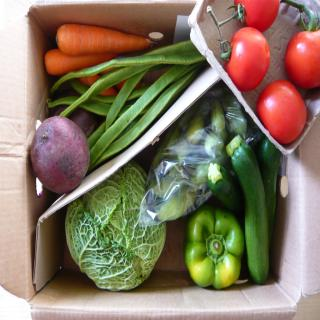tomato: (227, 21, 274, 93), (256, 78, 308, 142), (284, 8, 320, 87), (224, 0, 280, 36)
